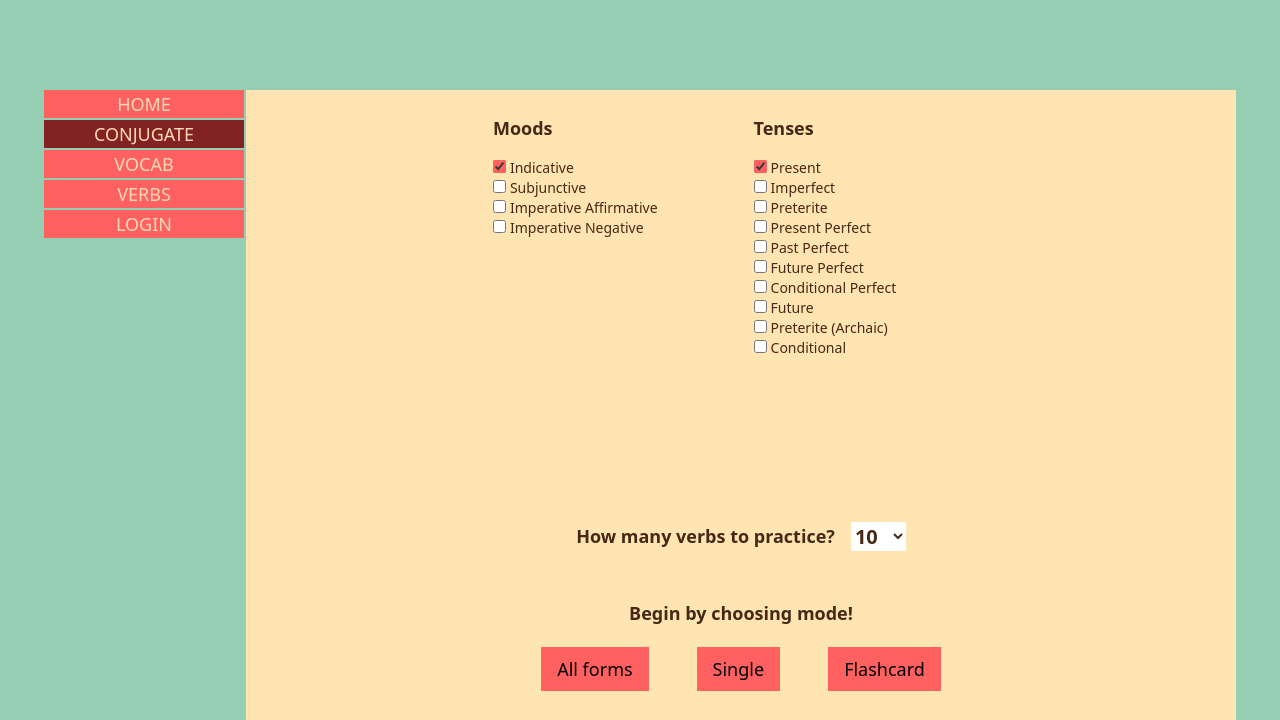
Test: taivuttaja-app › when unlogged › Vocab-page opens
Click the link "VOCAB": (144, 164) left=44, top=150, right=244, bottom=178
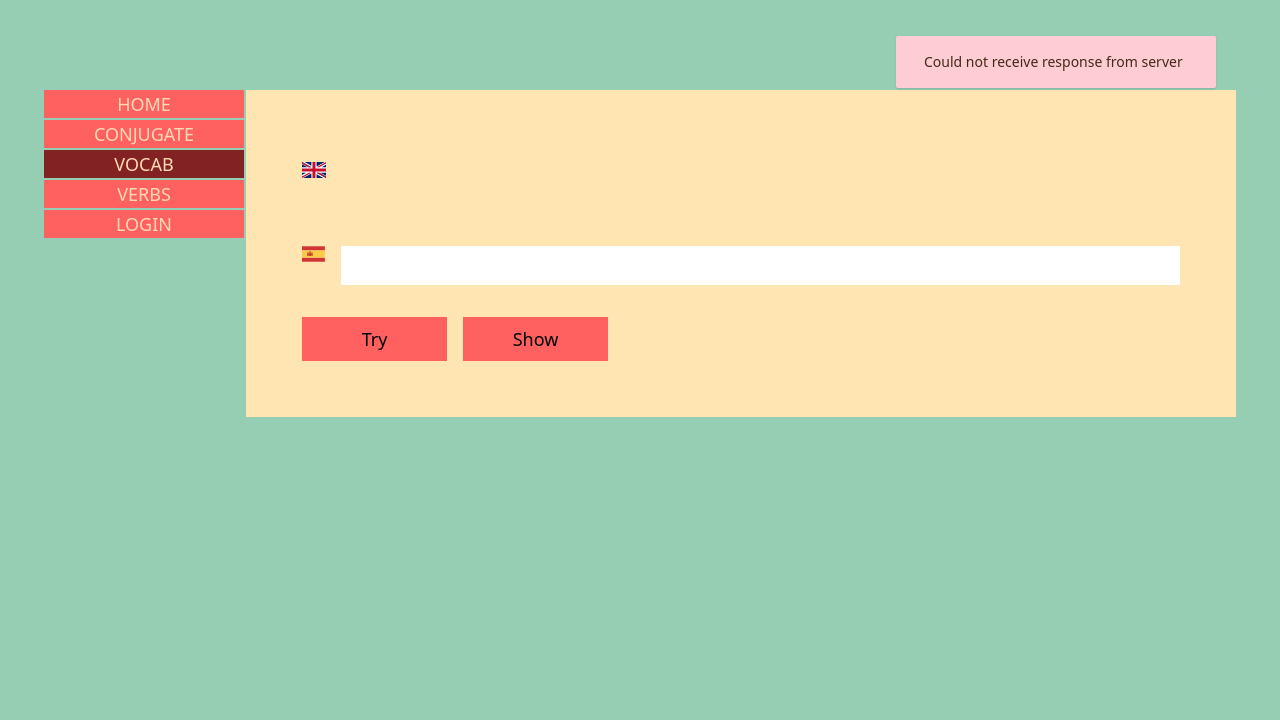
Result: the button "Try" is shown at left=302, top=316, right=447, bottom=360
